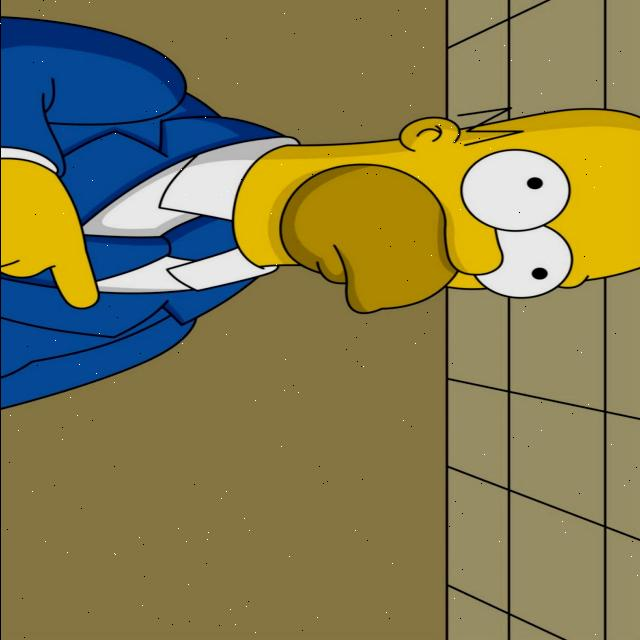Homer Simpson: (228, 105, 640, 317)
